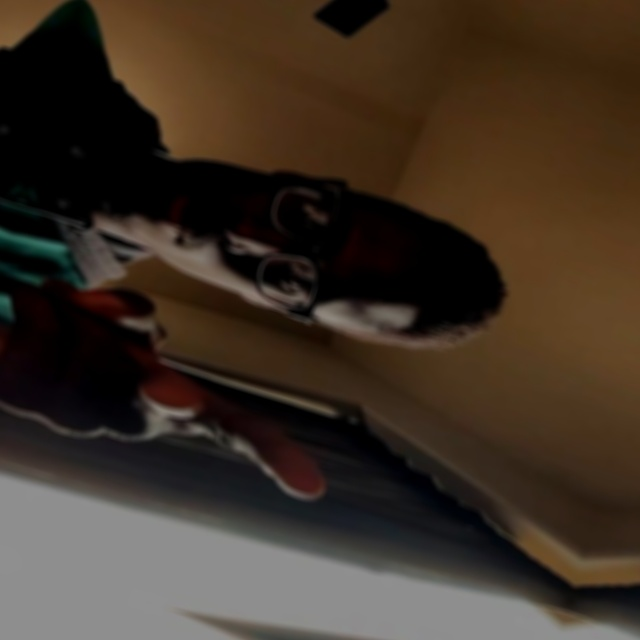Scissors: (0, 254, 366, 509)
